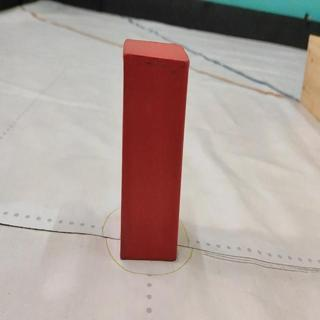redbox: (121, 37, 191, 262)
